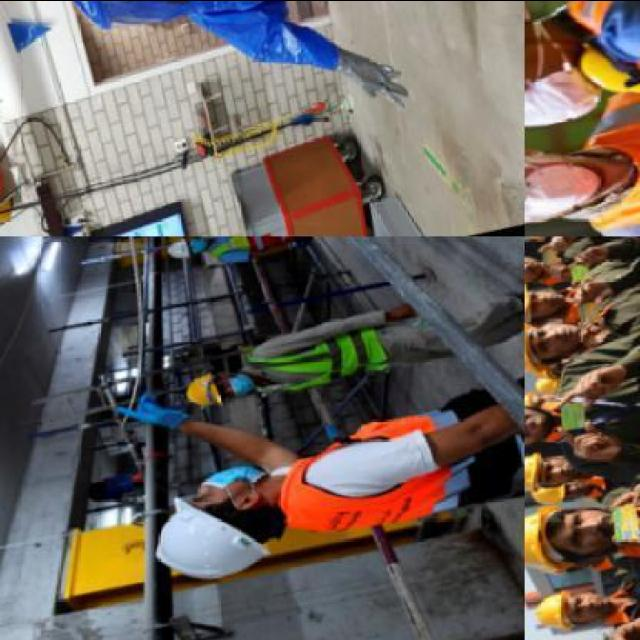helmet: (148, 497, 272, 576), (526, 501, 586, 573), (534, 591, 580, 634), (184, 362, 222, 412), (162, 236, 196, 264)
